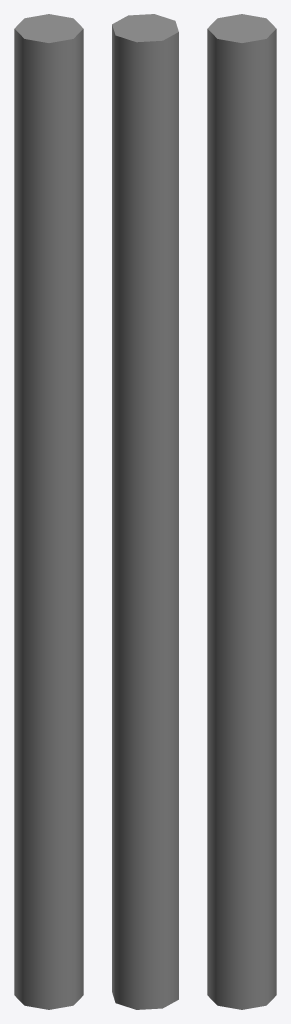
File: Menu_SignPole.fbx
3 views of the same model, side by side, from view 1: azimuth 90°, elevation 25°; view 2: azimuth 210°, elevation 25°; view 3: azimuth 270°, elevation 25° (orthographic).
Parts seen in each view (by area): view 1: Pole; view 2: Pole; view 3: Pole.
Boxes of the visible parts, x1=… form: Pole: x1=14, y1=14, x2=83, y2=1009; Pole: x1=112, y1=14, x2=178, y2=1009; Pole: x1=207, y1=14, x2=276, y2=1009.
Size of the model in its own units: 1.04 by 16 by 1.04.
